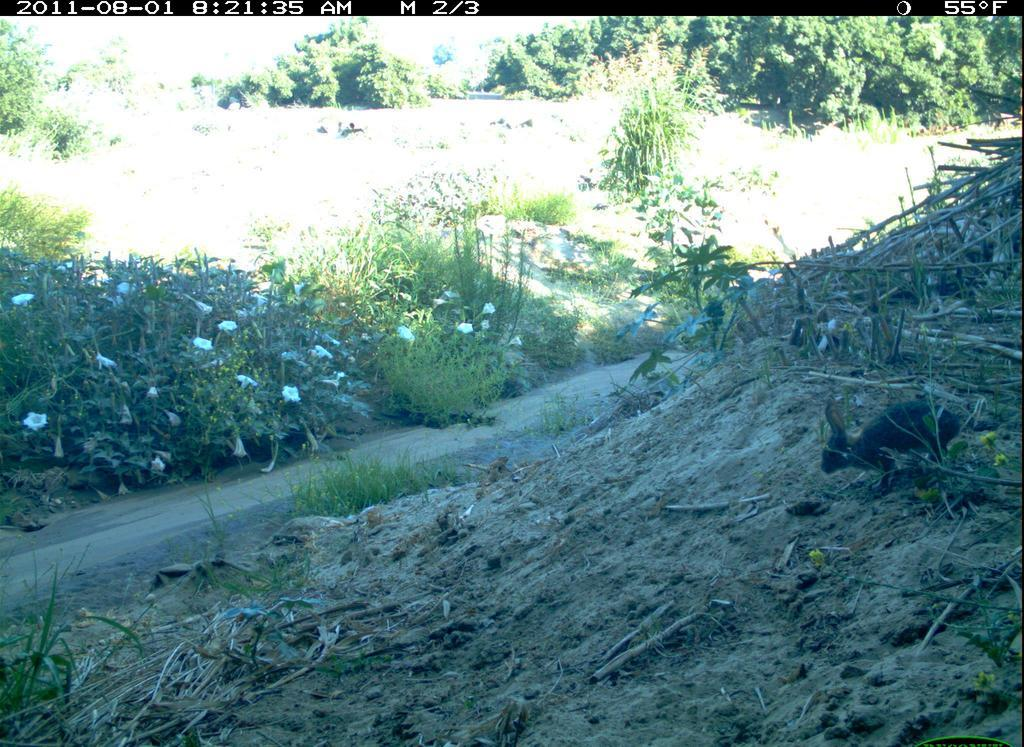rabbit: (818, 398, 967, 498)
